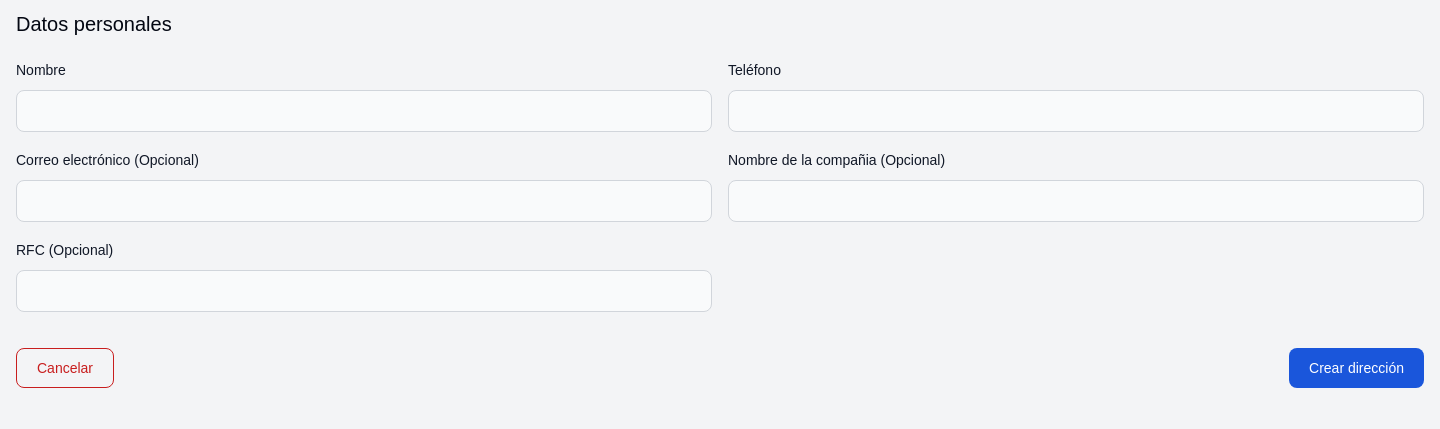
Test case: Feature: Add Personal Information GE Subform › Error validation › Given the user enters a short name, When validation fails, Then it should display appropriate error
Type "J" into the field with test id "name" at coordinates (364, 111), box [16,90,712,132]
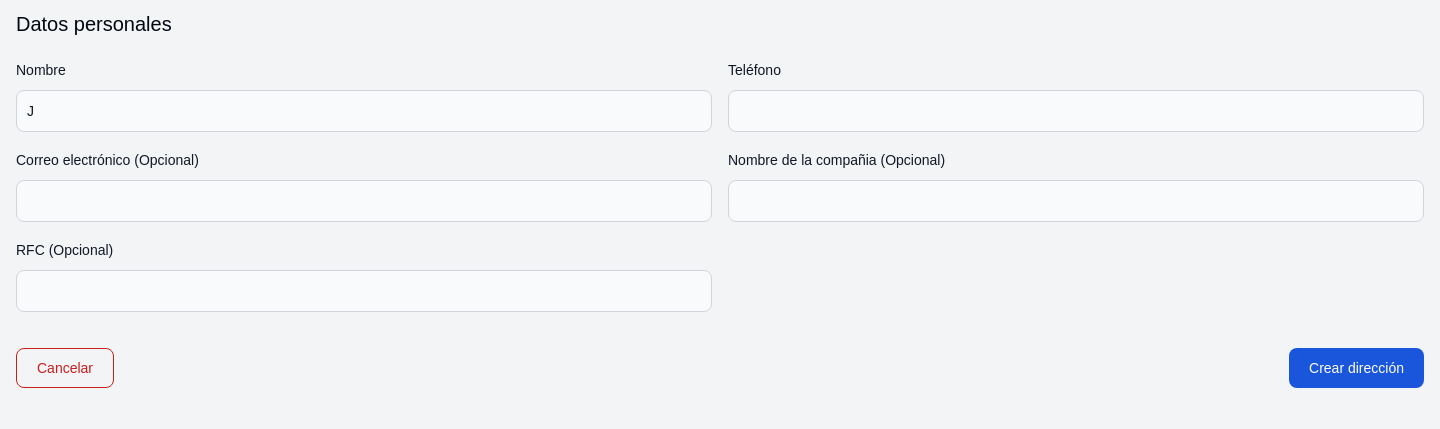
Click the button with test id "submit-button-create-address-ge" at coordinates (1357, 368), box [1289,348,1424,388]
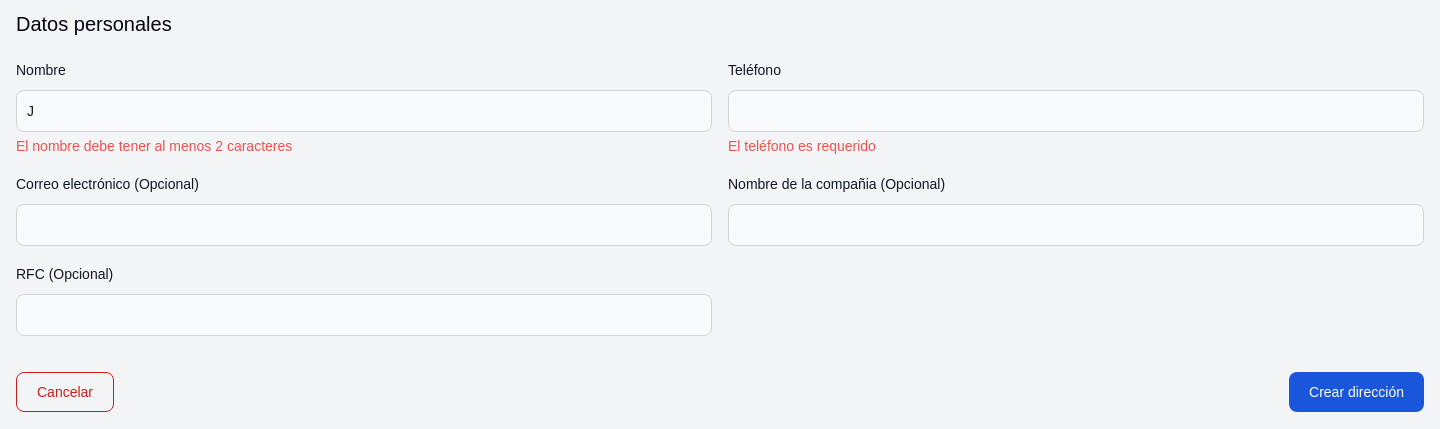
Expected: the text "El nombre debe tener al menos 2 caracteres" is shown, [16,138,292,154]
